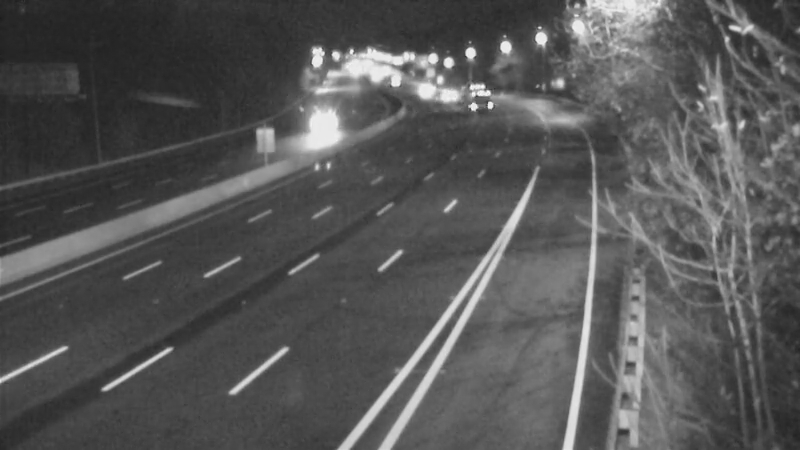vehicle: (401, 63, 451, 113), (420, 71, 470, 121), (450, 74, 500, 124), (291, 100, 341, 150)
